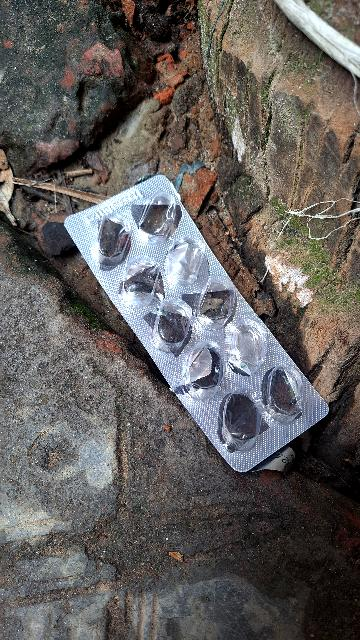medicine: (42, 153, 341, 488)
